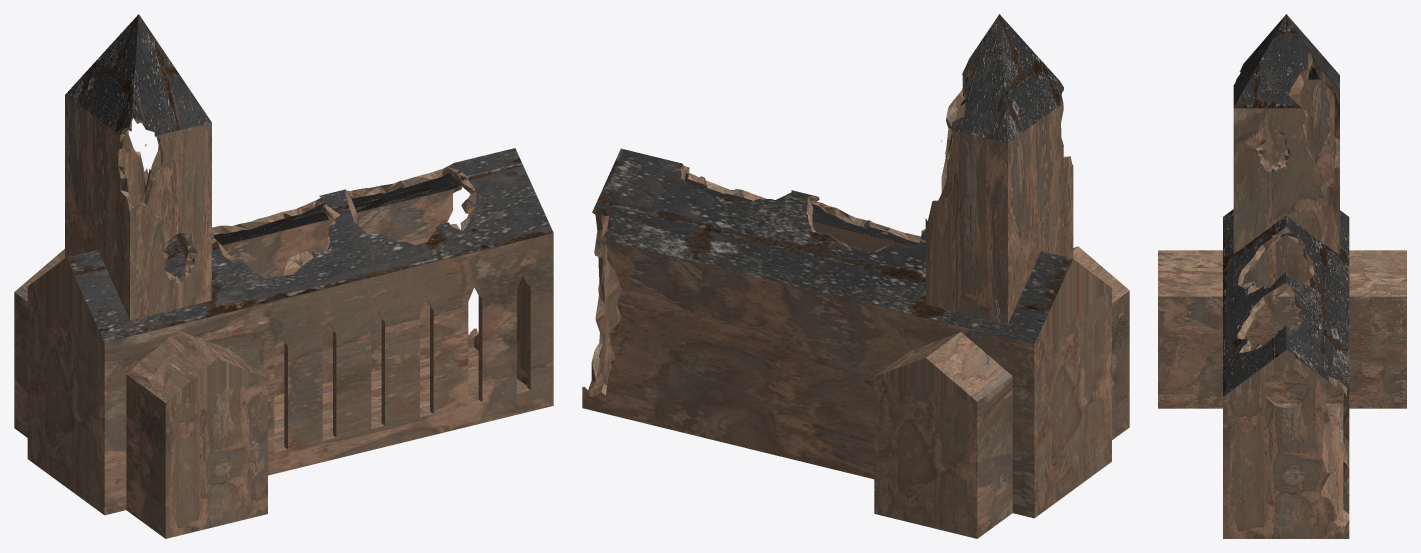
The model's file is Church.fbx.
3 renders of one model, left to right at view 1: azimuth 30°, elevation 25°; view 2: azimuth 150°, elevation 25°; view 3: azimuth 270°, elevation 25°, orthographic. The views are drawn at different scales.
Visible parts, largest first — view 1: Church.001, Church.002; view 2: Church.001, Church.002; view 3: Church.001, Church.002.
Part boxes in pixels (left/top/right/bottom): Church.001: left=14, top=148, right=553, bottom=538; Church.002: left=65, top=14, right=211, bottom=320; Church.001: left=582, top=148, right=1129, bottom=538; Church.002: left=925, top=14, right=1073, bottom=324; Church.001: left=1158, top=209, right=1406, bottom=538; Church.002: left=1233, top=14, right=1339, bottom=287.
Size of the model in its own units: 6547 by 6342 by 3822.
